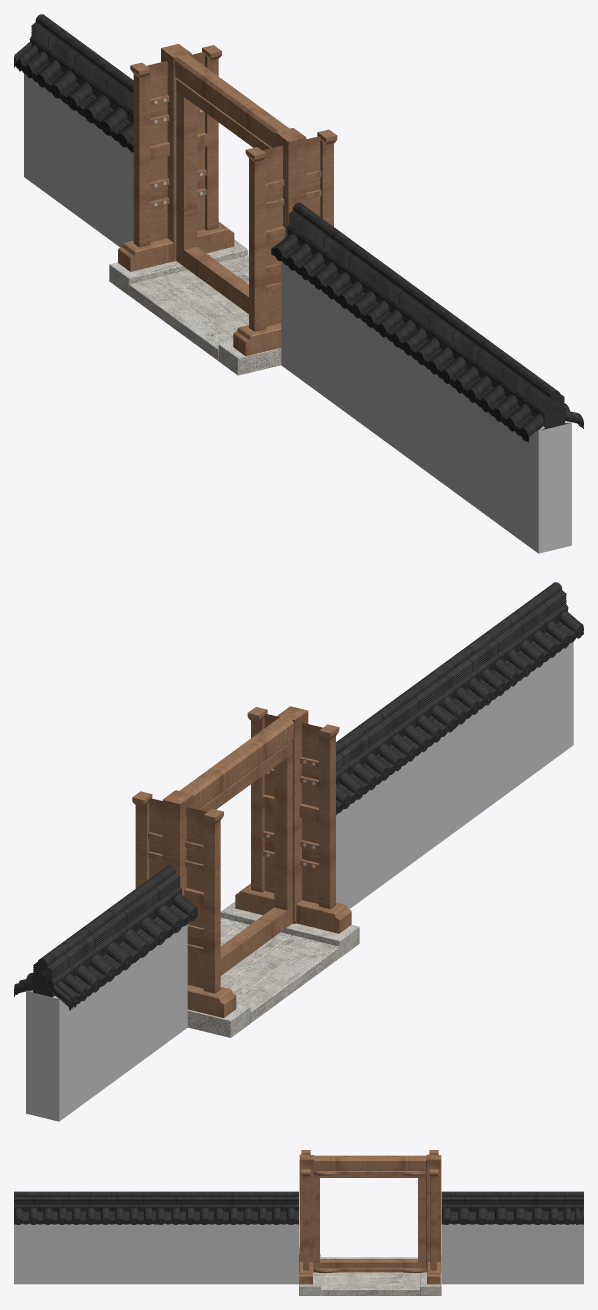
The model's file is SM_JSH_HG_StoneWallH_Splines_15.fbx.
3 renders of one model, top to bottom at view 1: azimuth 30°, elevation 25°; view 2: azimuth 150°, elevation 25°; view 3: azimuth 270°, elevation 25°, orthographic. The views are drawn at different scales.
Parts seen in each view (by area): view 1: SM_JSH_HG_StoneWallH_Splines_15; view 2: SM_JSH_HG_StoneWallH_Splines_15; view 3: SM_JSH_HG_StoneWallH_Splines_15.
Boxes of the visible parts, bbox=[...] form: SM_JSH_HG_StoneWallH_Splines_15: bbox=[14, 14, 583, 553]; SM_JSH_HG_StoneWallH_Splines_15: bbox=[14, 582, 583, 1121]; SM_JSH_HG_StoneWallH_Splines_15: bbox=[14, 1150, 583, 1295].
Size of the model in its own units: 141 by 1046 by 248.
